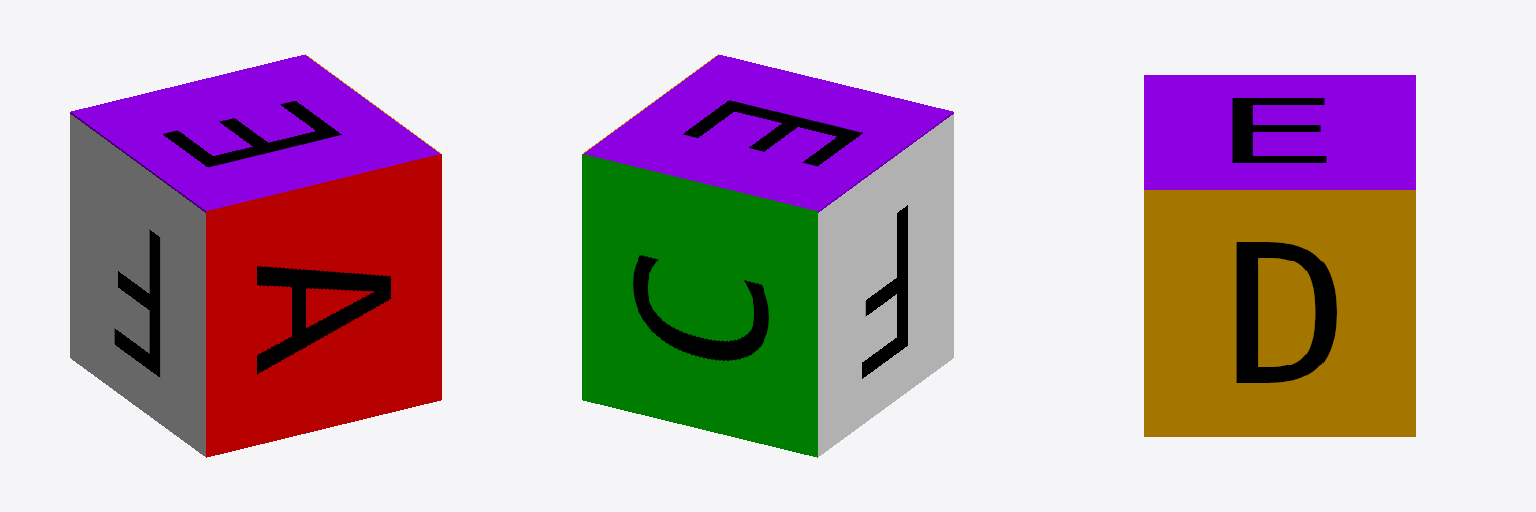
3 views of the same model, side by side, from view 1: azimuth 30°, elevation 25°; view 2: azimuth 150°, elevation 25°; view 3: azimuth 270°, elevation 25° (orthographic).
Visible parts, largest first — view 1: Cube; view 2: Cube; view 3: Cube.
Part boxes in pixels (left/top/right/bottom): Cube: left=70, top=54, right=441, bottom=457; Cube: left=582, top=54, right=953, bottom=457; Cube: left=1144, top=75, right=1415, bottom=436.
Bounding box in the file's own units: 2 × 2 × 2.
1 materials, 1 textured.